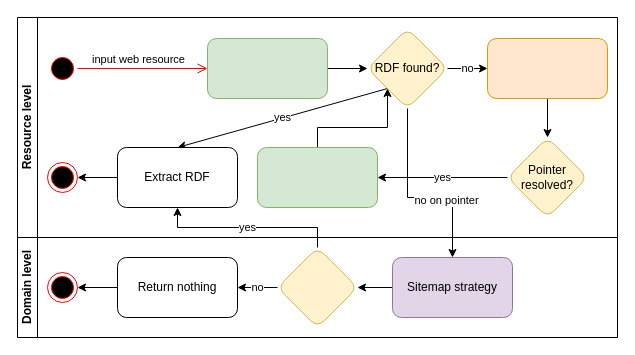
Some shapes in this 635 by 355 pixel diagram are drawn without their labels. Each missing label, with the centre of its shape:
Direct strategy: point 267,68
Direct strategy on pointer: point 317,177
Indirect strategy: point 547,68
metadata discovered?: point 317,287
